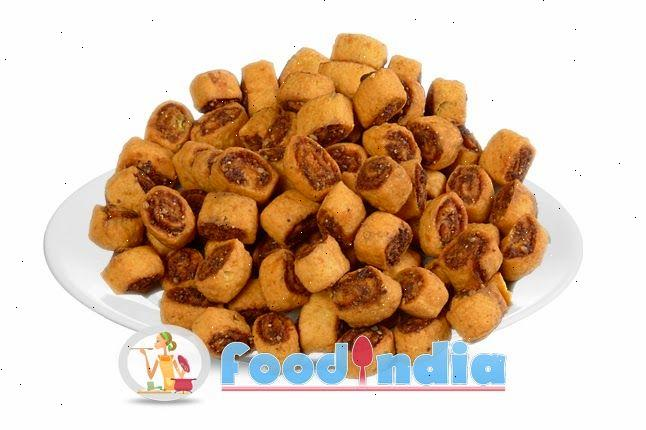bhakarwadi: (91, 34, 548, 322)
